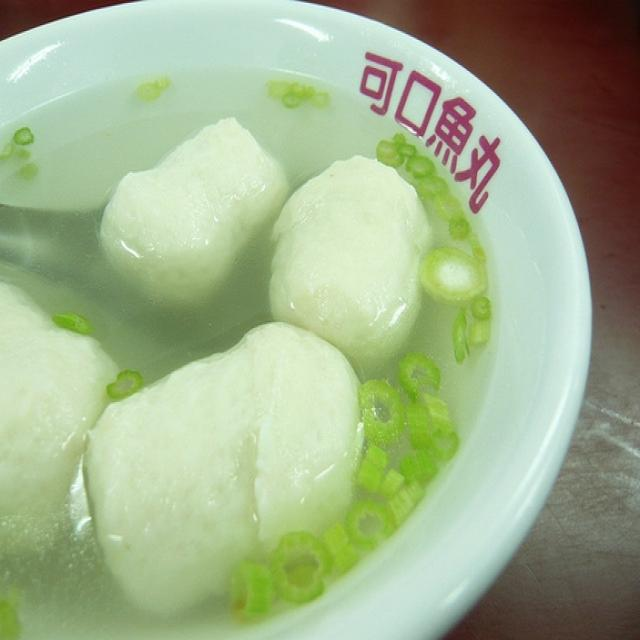熟制海鲜: (3, 84, 526, 612)
